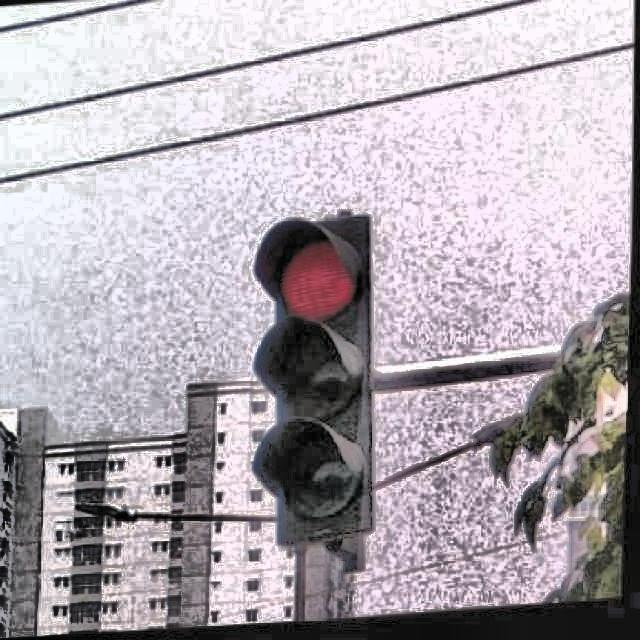red: (256, 218, 380, 539)
